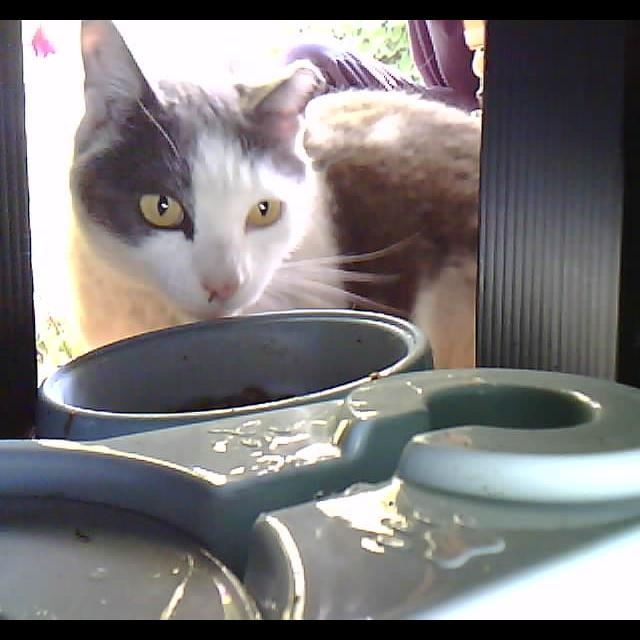animals: (58, 20, 344, 326)
